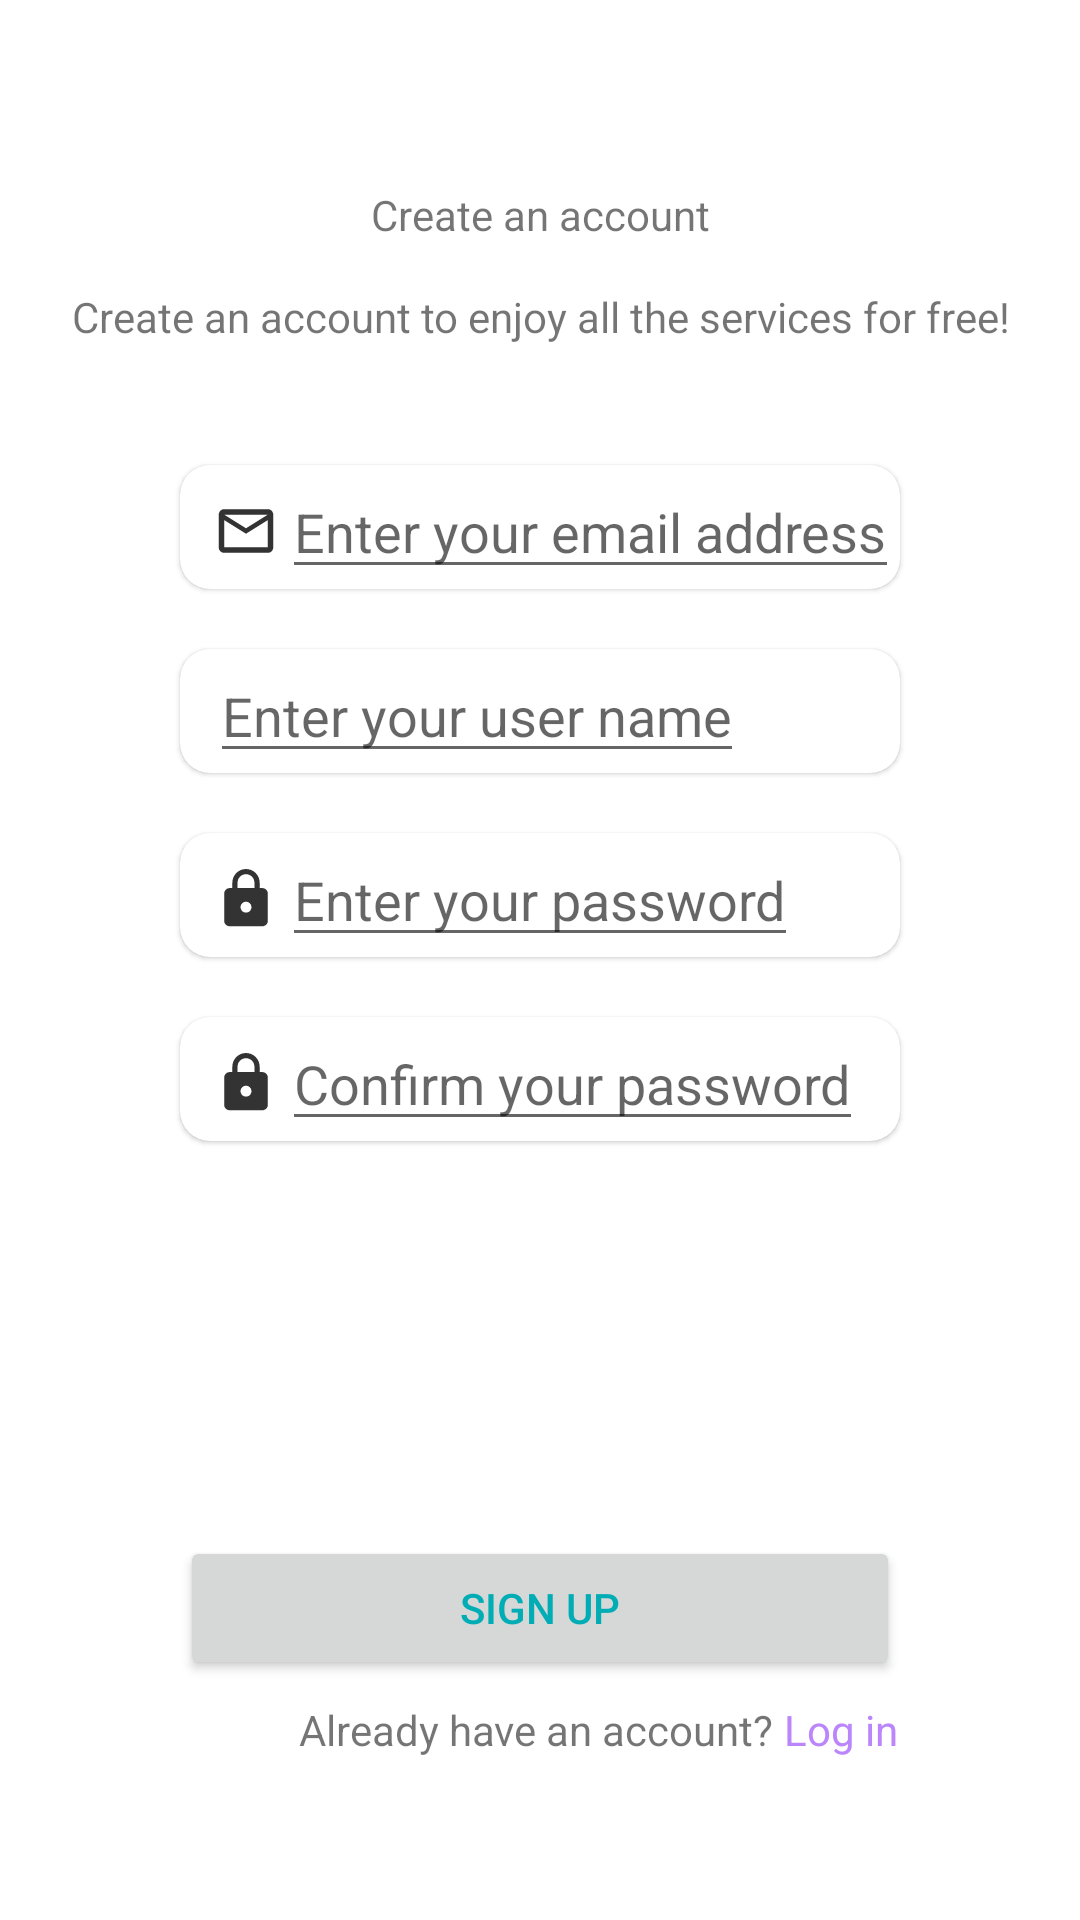

Locate icon controls on the screen. Image size 1080px x 1920px, boxes as (x1,y1,x2,y2).
lock: (224,869,268,927), (224,1053,268,1111)
